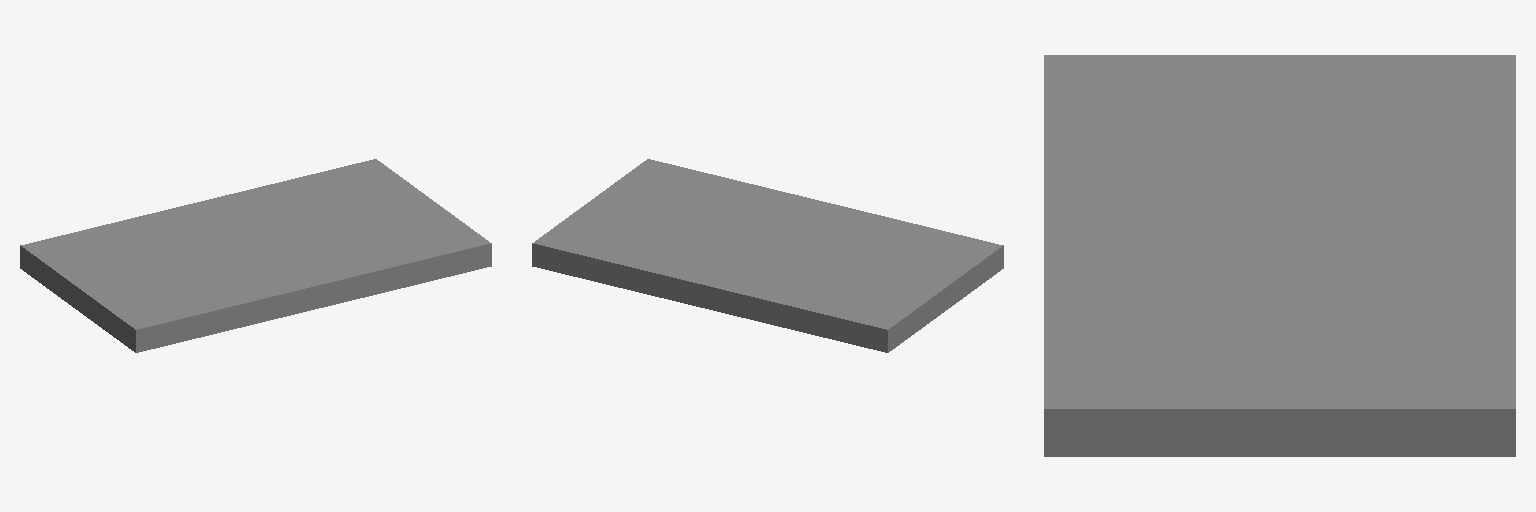
The robot description file, URDF, robot "boundary":
<?xml version="1.0" ?>
<robot name="boundary">
  <link name="baseLink">
     <contact>
      <lateral_friction value="1"/>
  </contact>
    <inertial>
      <origin rpy="0 0 0" xyz="0 0 0"/>
       <mass value=".0"/>
       <inertia ixx="0" ixy="0" ixz="0" iyy="0" iyz="0" izz="0"/>
    </inertial>
    <visual>
      <origin rpy="0 0 0" xyz="0 0 0"/>
      <geometry>
				<mesh filename="floor.obj" scale="1 1 1"/>
      </geometry>
       <material name="black">
        <color rgba="0.6 0.6 0.6 1"/>
      </material>
    </visual>
    <collision>
      <origin rpy="0 0 0" xyz="0 0 -5"/>
      <geometry>
	 	<box size="30 30 11"/>
      </geometry>
    </collision>
  </link>
</robot>

--- Facts derived from the render (not from the file) ---
The picture shows the robot from 3 angles, left to right: view 1: azimuth 30°, elevation 25°; view 2: azimuth 150°, elevation 25°; view 3: azimuth 270°, elevation 25°; orthographic projection.
Robot: boundary — 1 links, 0 joints (none); root link baseLink; default pose: every joint at zero.
Links seen in each view (by area): view 1: baseLink; view 2: baseLink; view 3: baseLink.
Link boxes in pixels (left/top/right/bottom): baseLink: left=20, top=159, right=491, bottom=352; baseLink: left=532, top=159, right=1003, bottom=352; baseLink: left=1044, top=55, right=1515, bottom=456.
Bounding box of the posed robot: 16 × 9 × 1 m (x, y, z).
1 mesh visuals loaded from 1 distinct referenced files (1 OBJ).